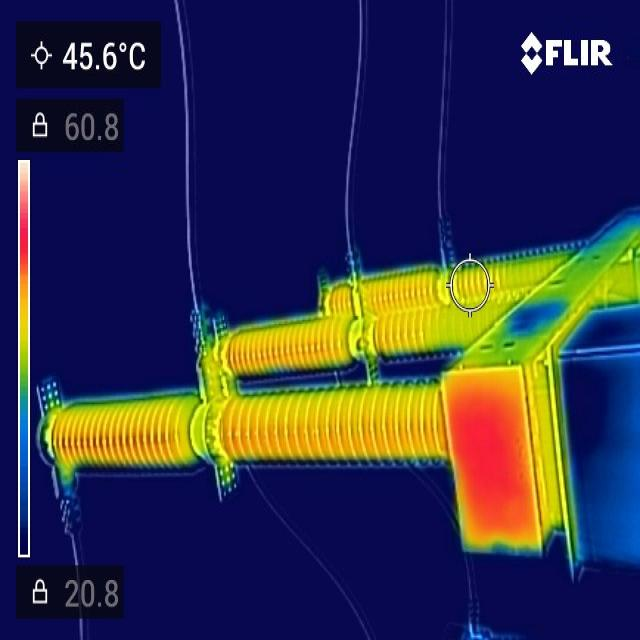Zona_Atenco: (54, 431, 170, 456)
Zona_Critica: (450, 393, 532, 528)
